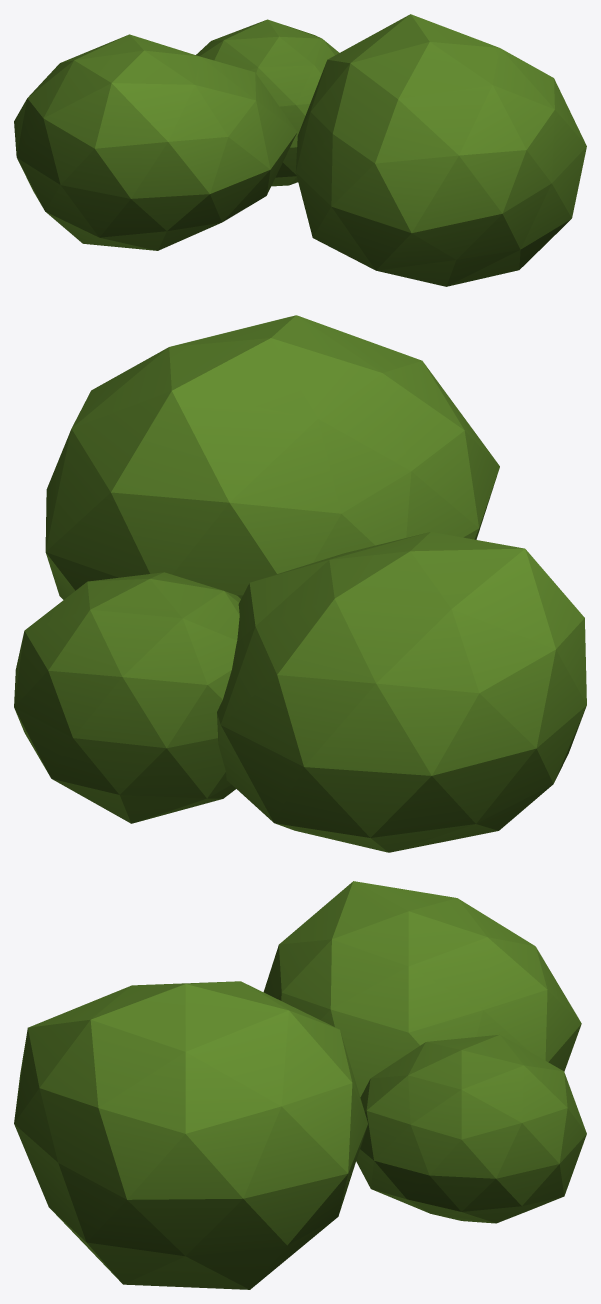
File: bush_b.glb
3 views of the same model, one above another, from view 1: azimuth 30°, elevation 25°; view 2: azimuth 150°, elevation 25°; view 3: azimuth 270°, elevation 25° (orthographic). The views are drawn at different scales.
Visible parts, largest first — view 1: Bush_deco; view 2: Bush_deco; view 3: Bush_deco.
Part boxes in pixels (x1=…): Bush_deco: x1=14, y1=14, x2=586, y2=286; Bush_deco: x1=14, y1=315, x2=586, y2=852; Bush_deco: x1=14, y1=881, x2=586, y2=1289.
Size of the model in its own units: 1.73 by 0.9234 by 1.69.
